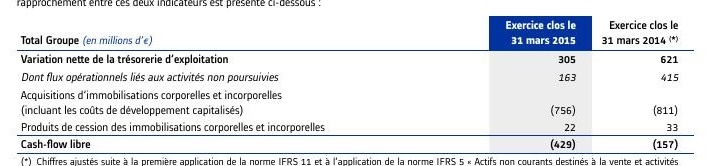table: (0, 0, 712, 166)
